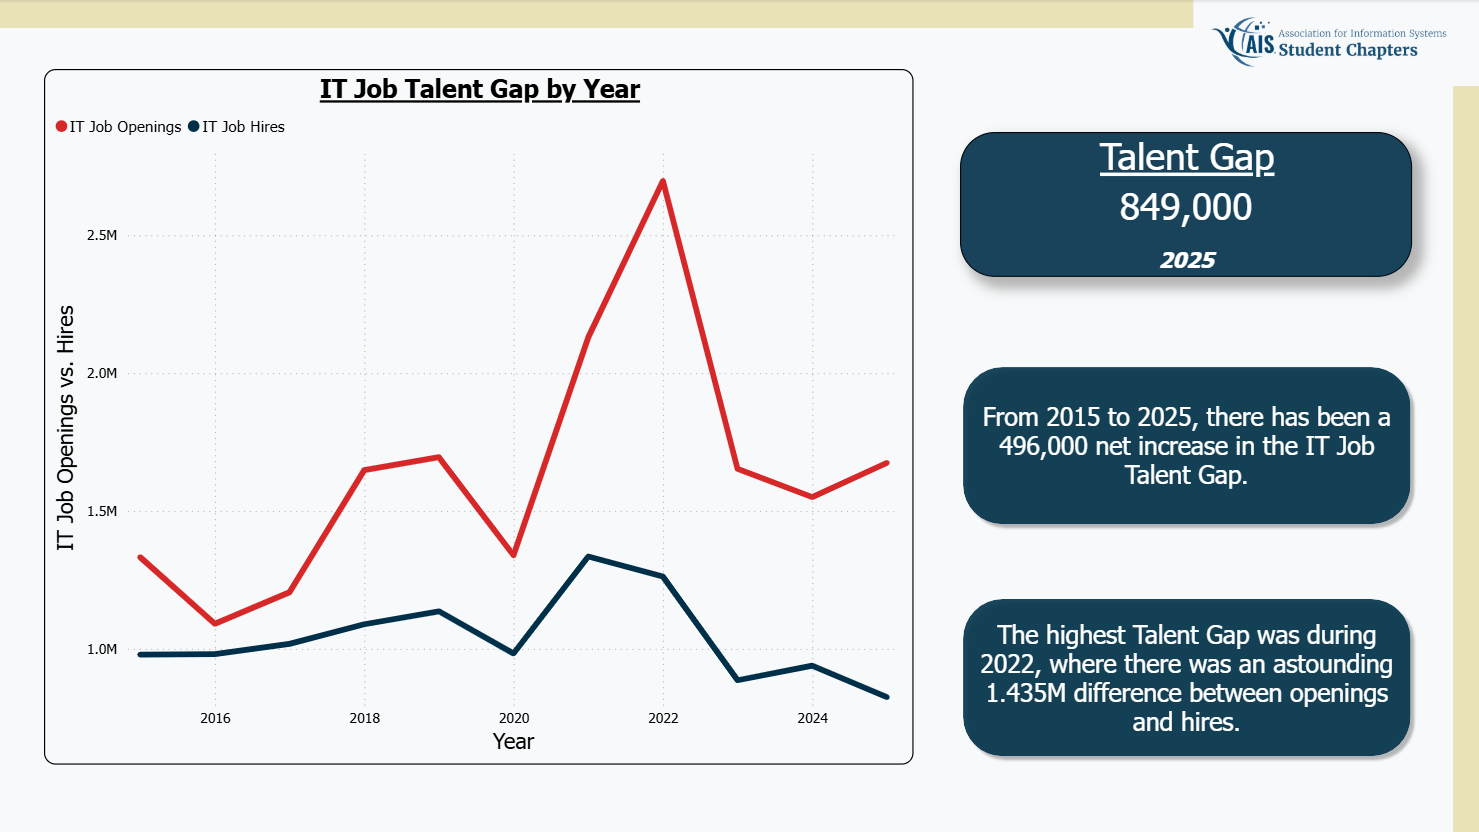

The dashboard page shown, as its layout file describes it:
{"tool":"powerbi","page":{"name":"Talent Gap","canvas":[1280,720],"ordinal":4},"visuals":[{"type":"lineChart","title":"IT Job Talent Gap by Year","fields":{"Category":["aissclc ityears.YEAR"],"Y":["Sum(aissclc itopens.Job Openings)","Sum(aissclc ithires.Job Hires)"]},"box":[40,60,750,600],"z":0},{"type":"image","box":[1030.6,0,249.4,75.3],"z":1000},{"type":"shape","box":[0,0,1031,25.4],"z":2000},{"type":"shape","box":[1255,75.3,25.4,644.7],"z":3000},{"type":"kpi","title":"Talent Gap","fields":{"Indicator":["aissclc itopens.Talent Gap"],"TrendLine":["aissclc itopens.Year"]},"box":[830,115,390,125],"z":4000},{"type":"shape","box":[825.2,310.1,399.9,149.6],"z":5000},{"type":"shape","box":[825.2,510.5,399.9,149.6],"z":6000}]}

Visuals, with their boxes in screenshot pixels (x1, y1, x2, y2), scaled from the page's 1280x720 canvas onto the 1479x832 screenshot:
"IT Job Talent Gap by Year" lineChart: x1=46, y1=69, x2=913, y2=763
image: x1=1191, y1=0, x2=1478, y2=87
shape: x1=0, y1=0, x2=1191, y2=29
shape: x1=1450, y1=87, x2=1478, y2=831
"Talent Gap" kpi: x1=959, y1=133, x2=1410, y2=277
shape: x1=953, y1=358, x2=1416, y2=531
shape: x1=953, y1=590, x2=1416, y2=763
